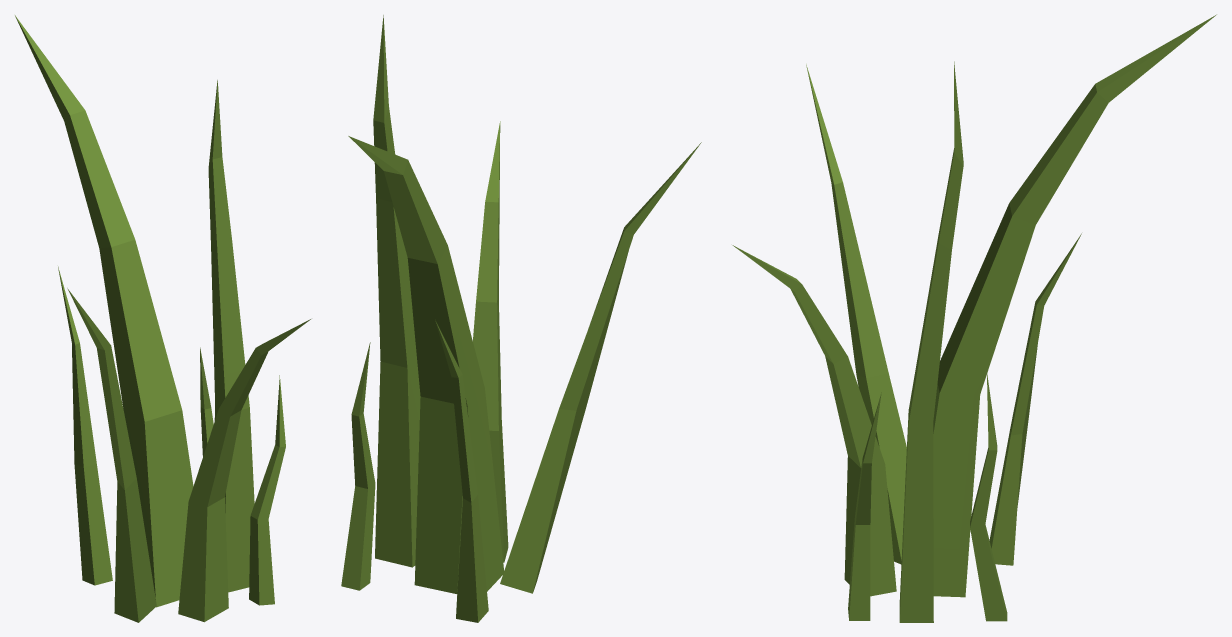
Rendered from Grass_10.fbx.
3 views of the same model, side by side, from view 1: azimuth 30°, elevation 25°; view 2: azimuth 150°, elevation 25°; view 3: azimuth 270°, elevation 25° (orthographic). The views are drawn at different scales.
Visible parts, largest first — view 1: Grass_10; view 2: Grass_10; view 3: Grass_10.
Boxes of the visible parts, bbox=[...] form: Grass_10: bbox=[15, 15, 310, 622]; Grass_10: bbox=[341, 15, 701, 622]; Grass_10: bbox=[732, 14, 1216, 622].
Bounding box in the file's own units: 24.75 × 47.68 × 37.65.
